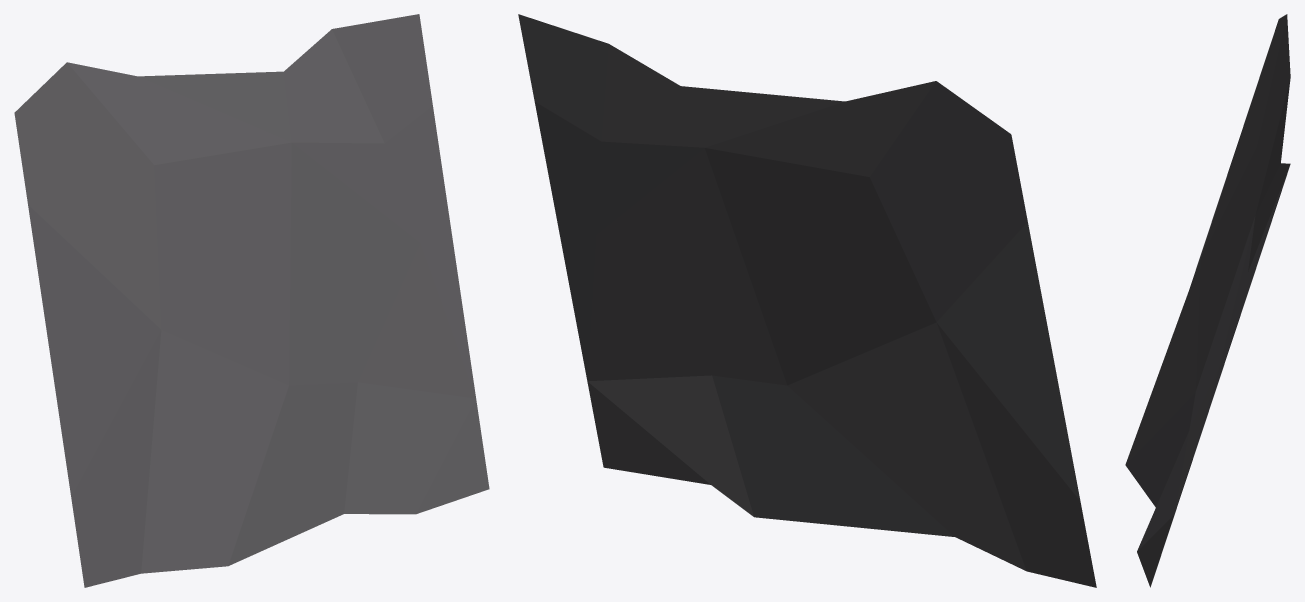
File: mesh_nature_cliff_bottom_03.fbx
3 views of the same model, side by side, from view 1: azimuth 30°, elevation 25°; view 2: azimuth 150°, elevation 25°; view 3: azimuth 270°, elevation 25° (orthographic). The views are drawn at different scales.
Parts seen in each view (by area): view 1: mesh_nature_cliff_bottom_03; view 2: mesh_nature_cliff_bottom_03; view 3: mesh_nature_cliff_bottom_03.
Part boxes in pixels (x1=…): mesh_nature_cliff_bottom_03: x1=14, y1=14, x2=489, y2=587; mesh_nature_cliff_bottom_03: x1=518, y1=14, x2=1096, y2=587; mesh_nature_cliff_bottom_03: x1=1125, y1=14, x2=1290, y2=587.
Size of the model in its own units: 200 by 216 by 77.24.
